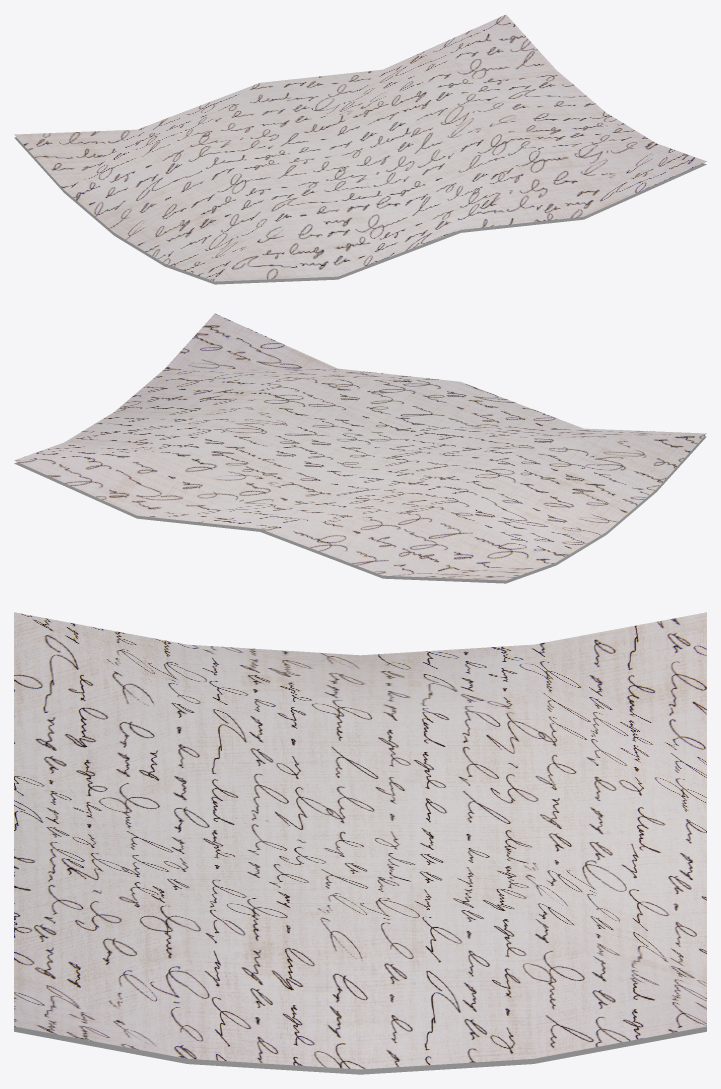
Rendered from letter.FBX.
The picture shows the model from 3 angles, top to bottom: view 1: azimuth 30°, elevation 25°; view 2: azimuth 150°, elevation 25°; view 3: azimuth 270°, elevation 25°; orthographic projection. The views are drawn at different scales.
Visible parts, largest first — view 1: Plane002; view 2: Plane002; view 3: Plane002.
Boxes of the visible parts, box(x1,y1,x2,y2) form: Plane002: box(14, 14, 706, 284); Plane002: box(14, 313, 706, 583); Plane002: box(14, 612, 706, 1074).
Size of the model in its own units: 29.7 by 1.71 by 21.
